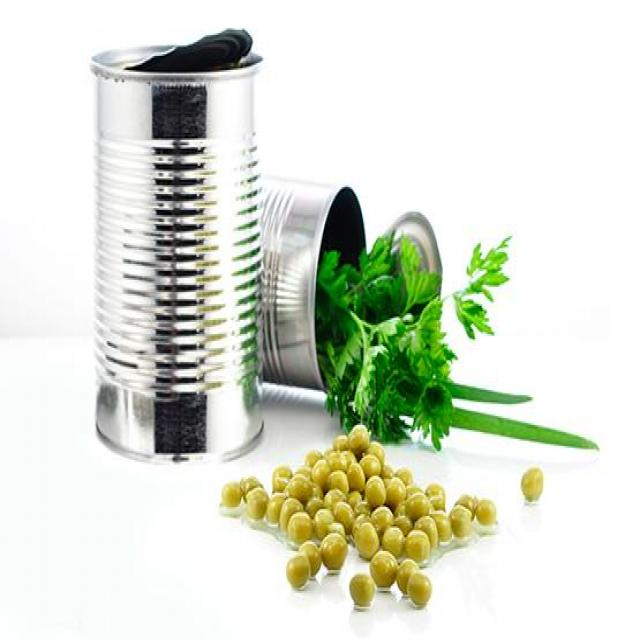metel: (260, 167, 621, 459), (81, 21, 278, 467)
